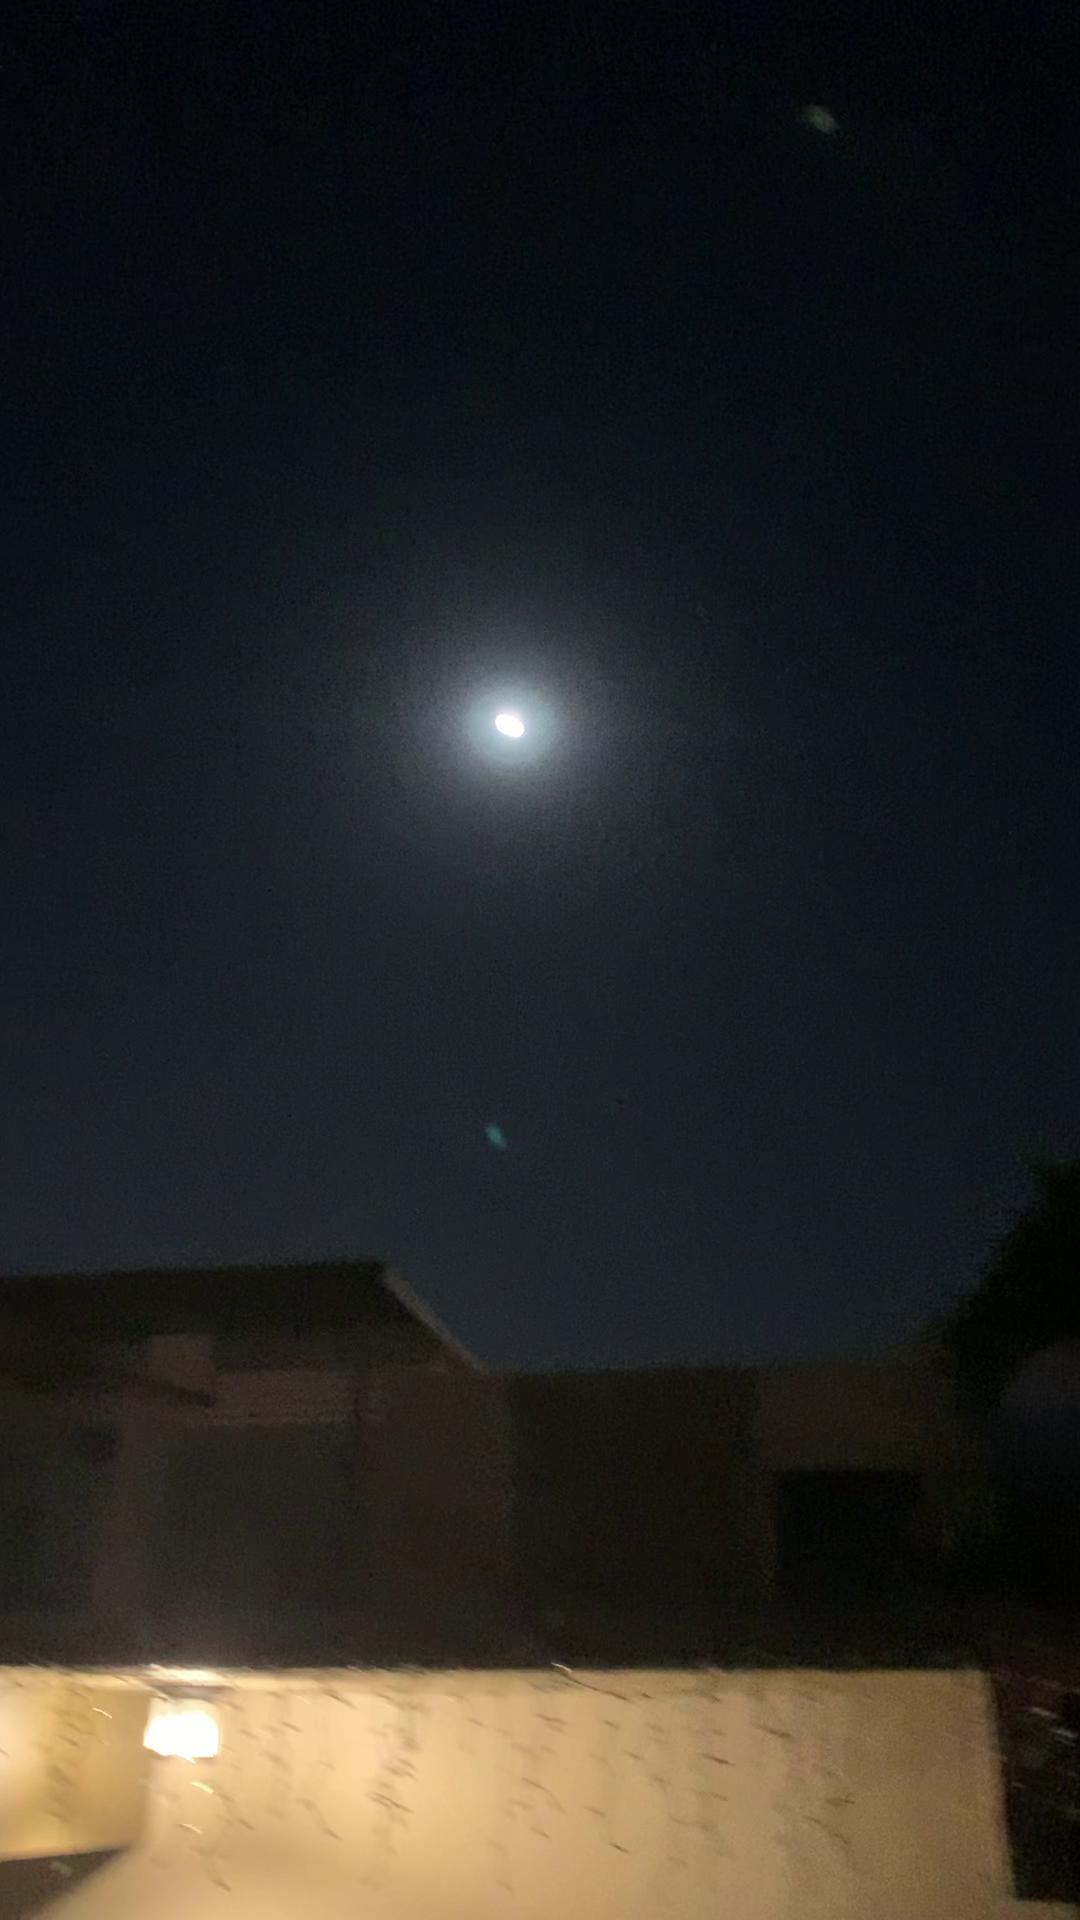moon: (465, 687, 553, 766)
